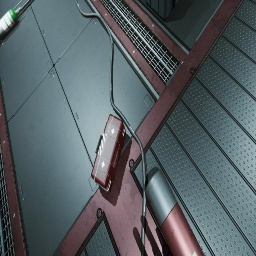0: (0, 7, 21, 40)
FirstAidBox ,: (91, 114, 126, 193)
NitrogenTank ,: (145, 169, 205, 256)
